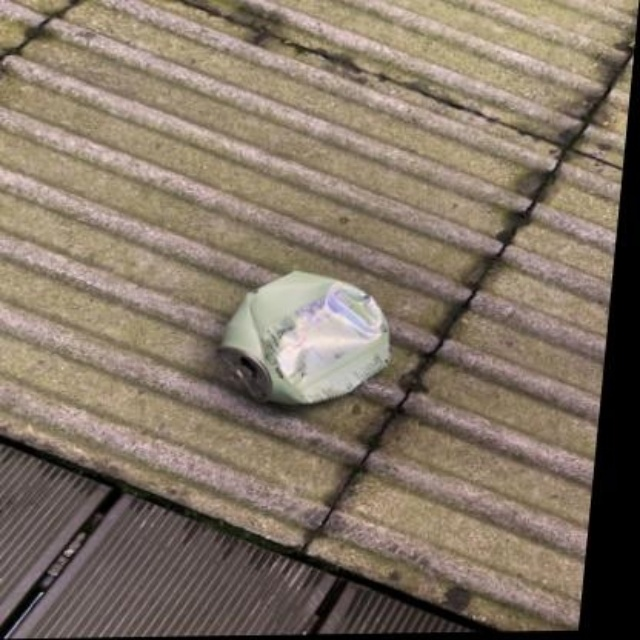trash: (220, 271, 389, 403)
